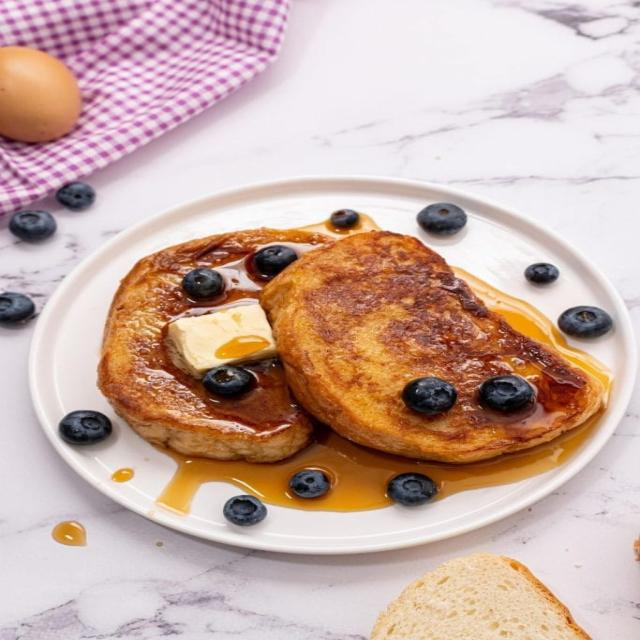Bread: (260, 231, 602, 463), (97, 229, 334, 462)
